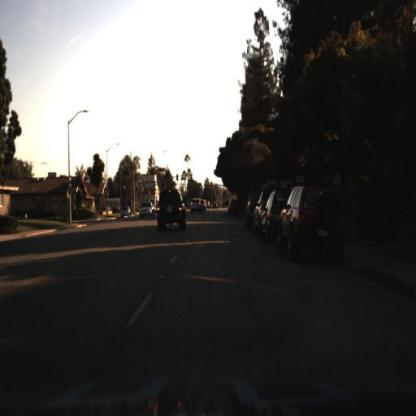car: (280, 184, 350, 259), (259, 189, 292, 244), (261, 189, 286, 246), (157, 189, 187, 232), (139, 200, 157, 221), (190, 195, 204, 217)
